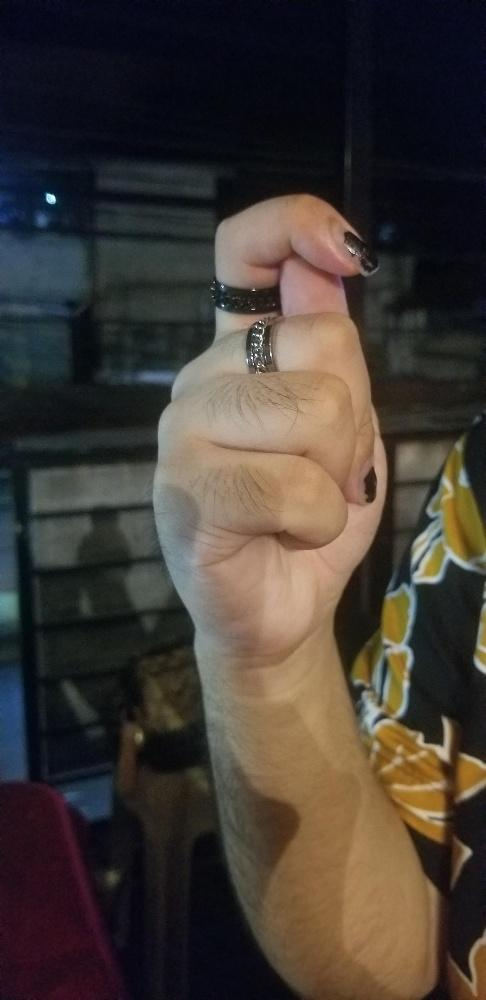t: (148, 198, 388, 635)
